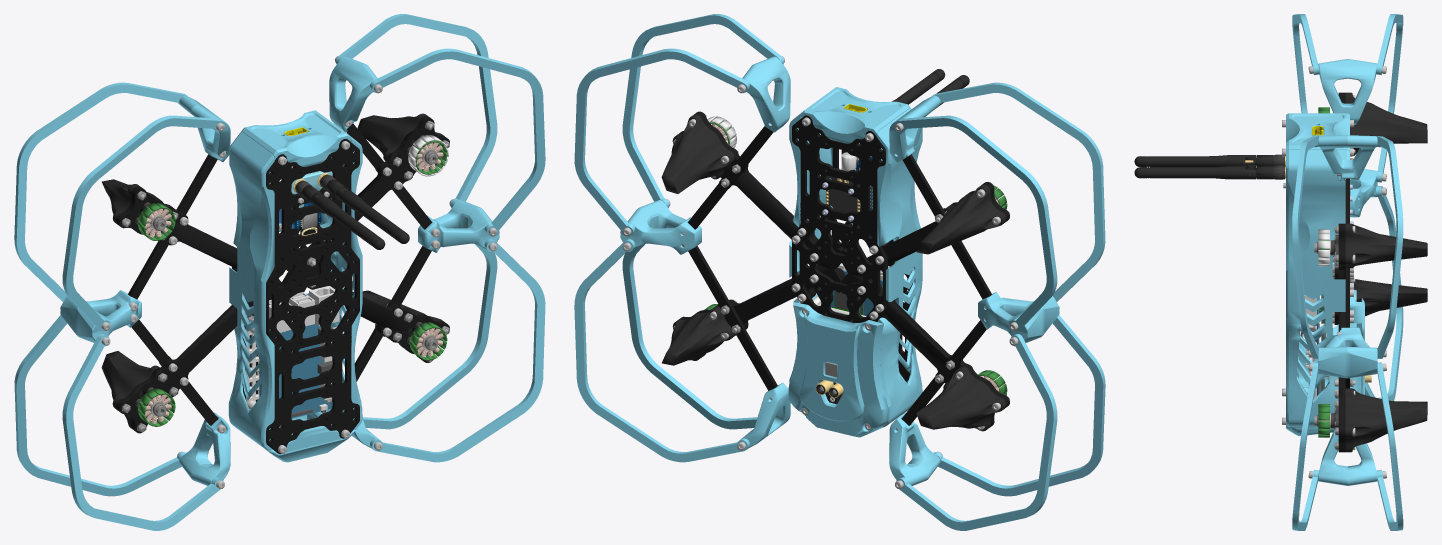
File: gigaobrik_clean.obj
3 renders of one model, left to right at view 1: azimuth 30°, elevation 25°; view 2: azimuth 150°, elevation 25°; view 3: azimuth 270°, elevation 25°, orthographic. The views are drawn at different scales.
Parts seen in each view (by area): view 1: gigaobrik_clean; view 2: gigaobrik_clean; view 3: gigaobrik_clean.
Boxes of the visible parts, bbox=[...] form: gigaobrik_clean: bbox=[14, 14, 545, 530]; gigaobrik_clean: bbox=[574, 14, 1105, 530]; gigaobrik_clean: bbox=[1134, 14, 1427, 530].
Bounding box in the file's own units: 0.3731 × 0.3045 × 0.2114.
